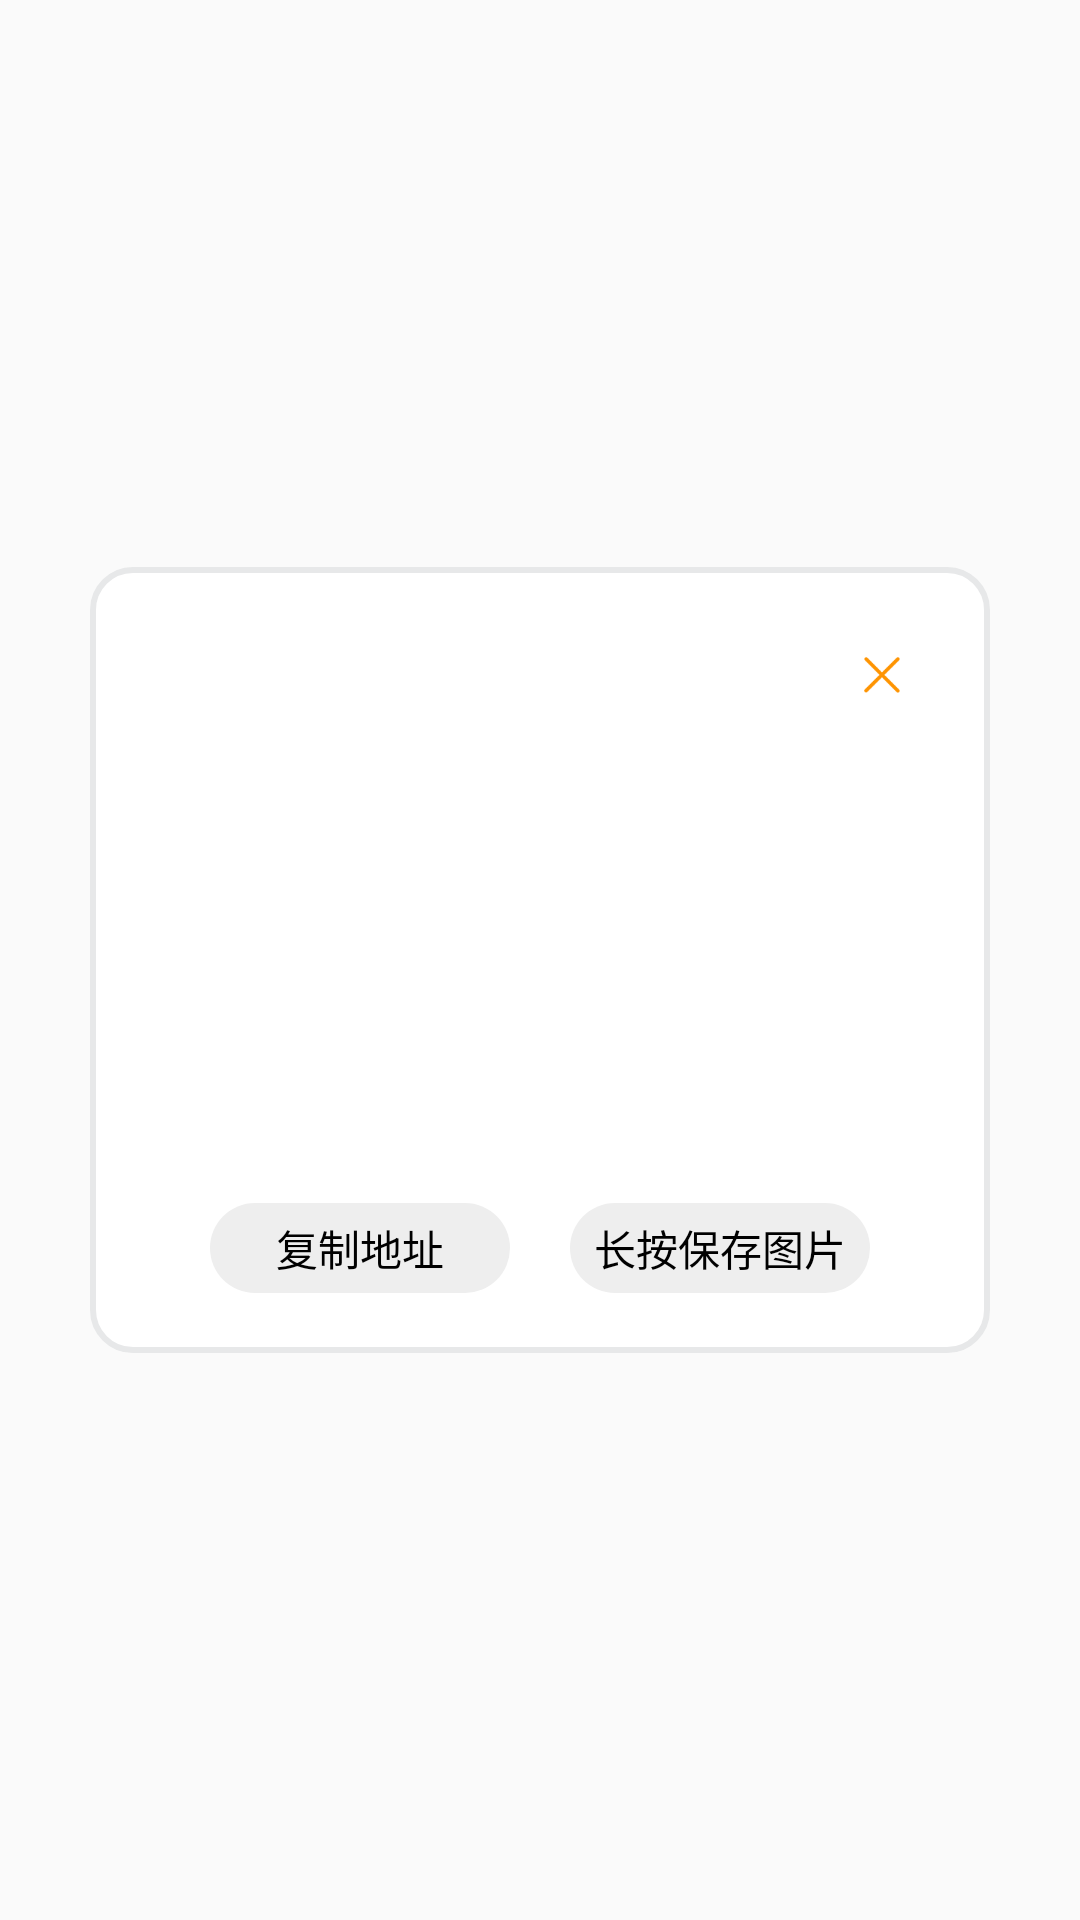

Icon click points for this 1080px x 1920px phone screenshot, format (x=x, y=y):
shareclose: (x=882, y=675)
